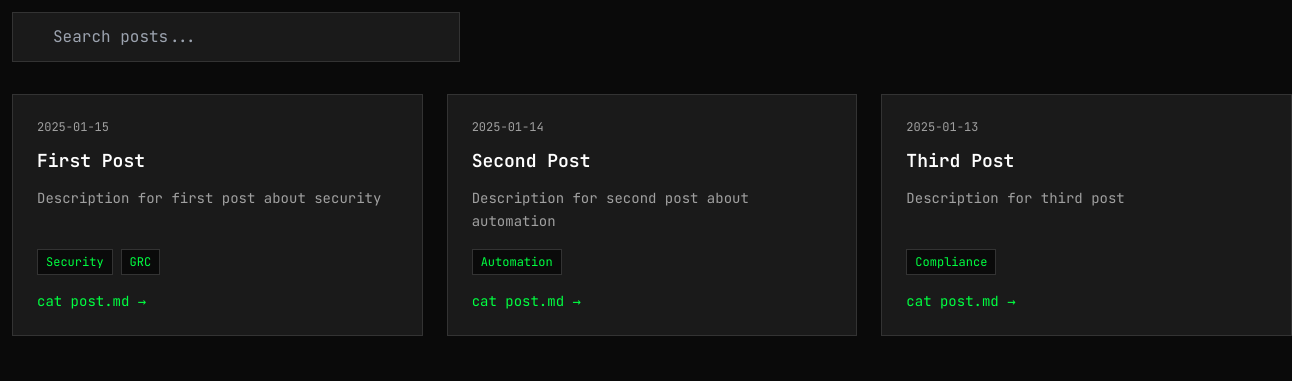
it: BlogList Component › should show result count when searching
The width and height of the screenshot is (1292, 381).
Type "Post" into the field with placeholder "Search posts..." at (236, 37), box [12, 12, 460, 62]
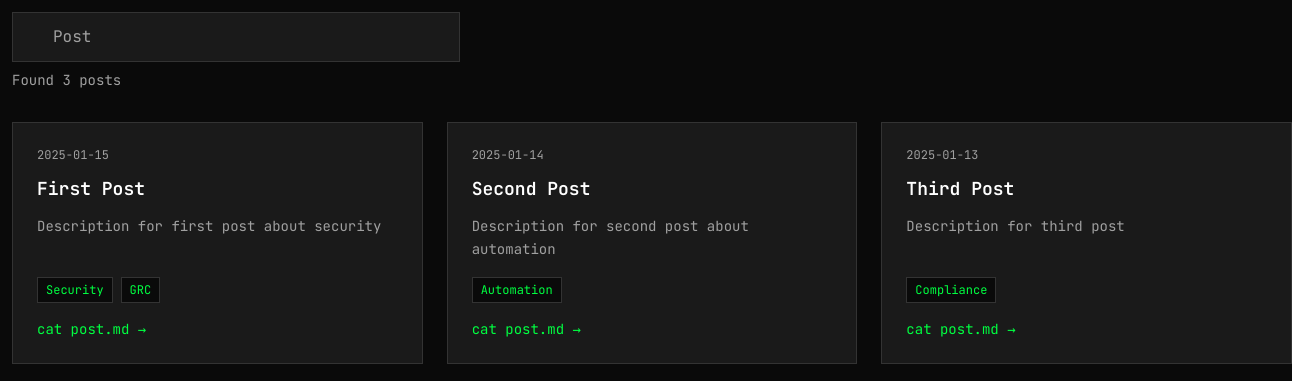
Now the text "Found 3 posts" is shown, box [12, 71, 121, 89]
